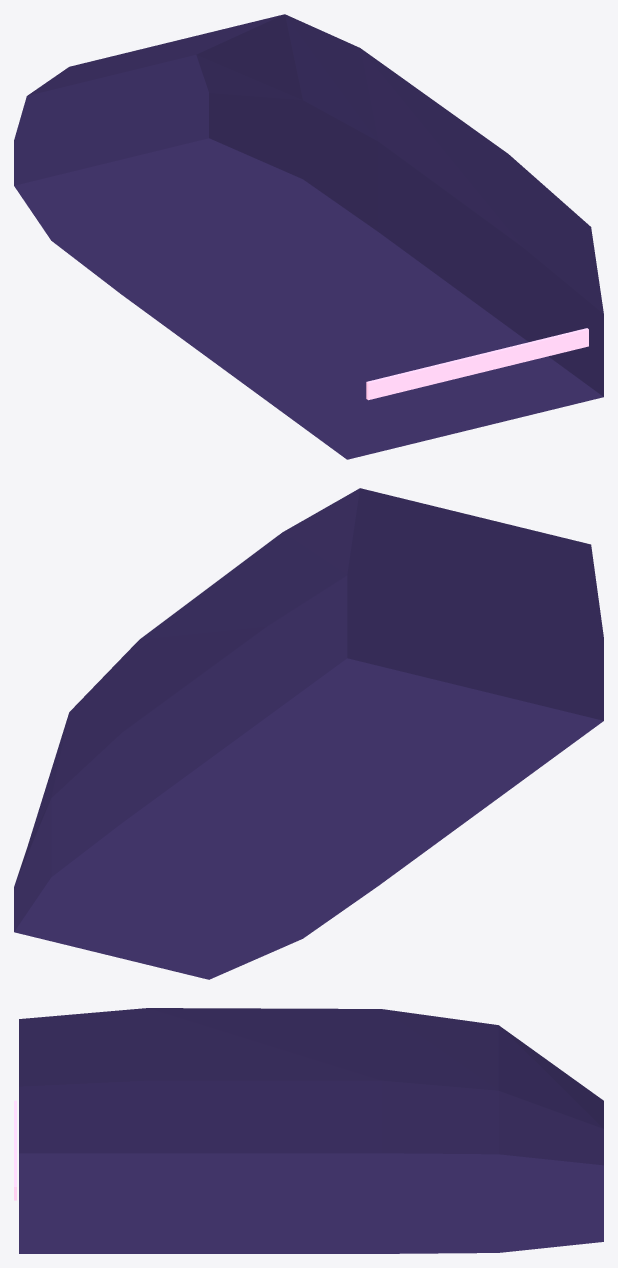
Rendered from 03_vector_van.glb.
3 views of the same model, one above another, from view 1: azimuth 30°, elevation 25°; view 2: azimuth 150°, elevation 25°; view 3: azimuth 270°, elevation 25° (orthographic). The views are drawn at different scales.
Visible parts, largest first — view 1: Vector Van; view 2: Vector Van; view 3: Vector Van.
Part boxes in pixels (x1=…): Vector Van: x1=14, y1=14, x2=603, y2=459; Vector Van: x1=14, y1=488, x2=603, y2=979; Vector Van: x1=14, y1=1008, x2=603, y2=1253.
Bounding box in the file's own units: 2.14 × 1.5 × 5.3.
